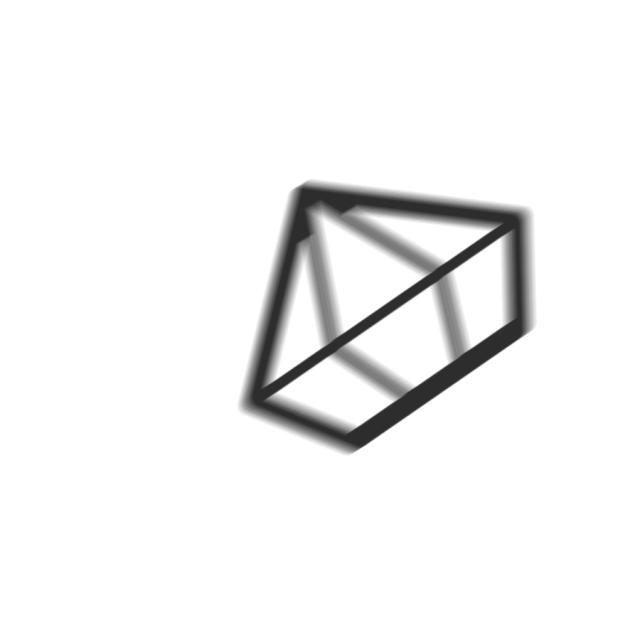diamond: (229, 175, 543, 465)
